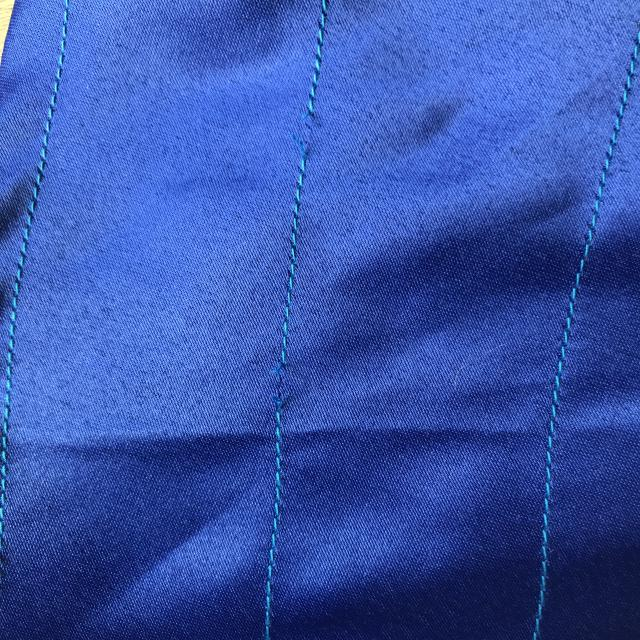broken: (240, 335, 310, 419), (284, 92, 339, 173)
good: (256, 452, 297, 576), (265, 201, 321, 280)
